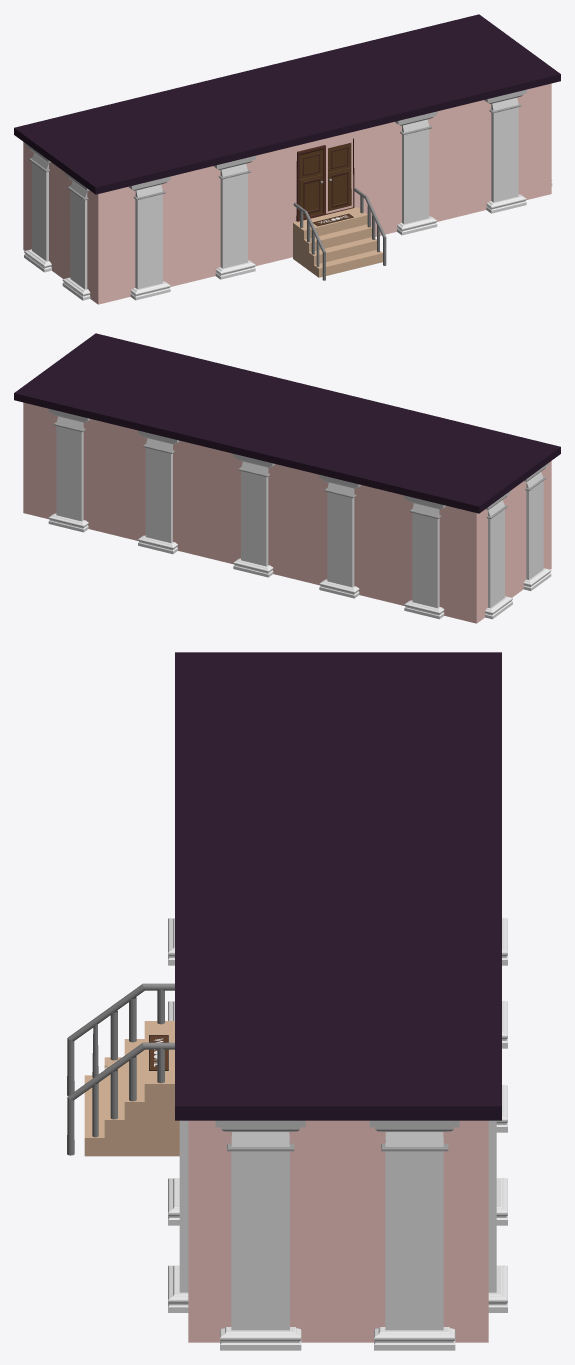
The model's file is Base_build.fbx.
3 renders of one model, top to bottom at view 1: azimuth 30°, elevation 25°; view 2: azimuth 150°, elevation 25°; view 3: azimuth 270°, elevation 25°, orthographic. The views are drawn at different scales.
Parts seen in each view (by area): view 1: Plane.002; view 2: Plane.002; view 3: Plane.002.
Boxes of the visible parts, bbox=[...] form: Plane.002: bbox=[14, 14, 560, 304]; Plane.002: bbox=[14, 333, 560, 623]; Plane.002: bbox=[67, 652, 507, 1350].
Bounding box in the file's own units: 162 × 40.57 × 66.09.
